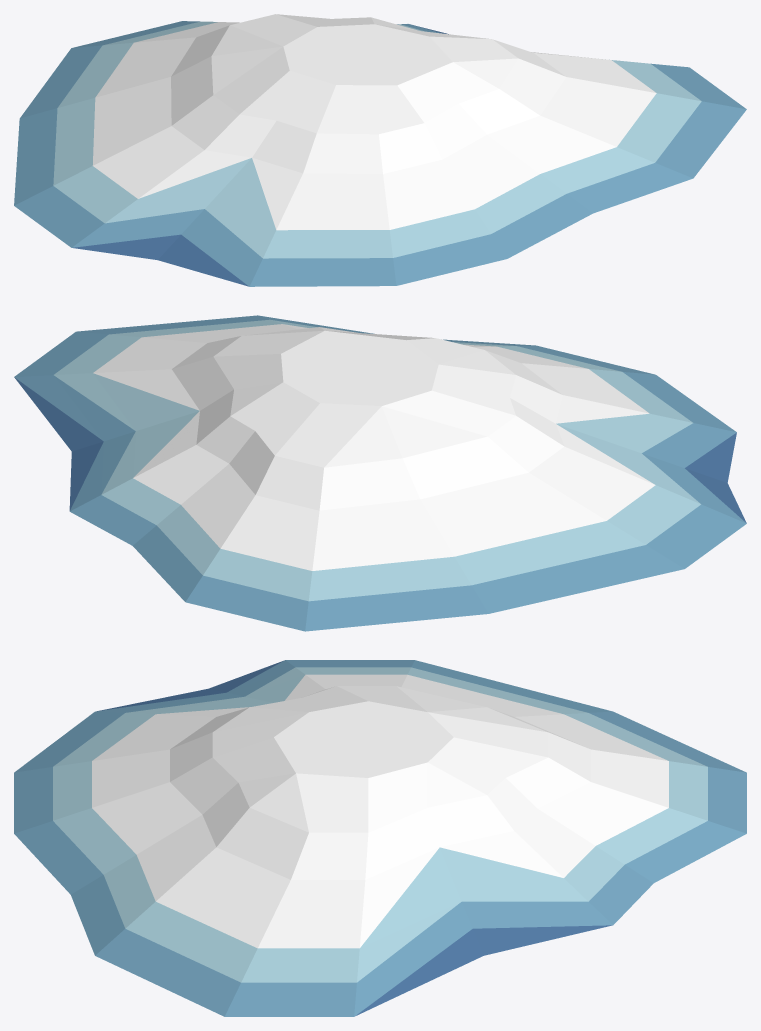
Rendered from terrainBeachLarge1.fbx.
The picture shows the model from 3 angles, top to bottom: view 1: azimuth 30°, elevation 25°; view 2: azimuth 150°, elevation 25°; view 3: azimuth 270°, elevation 25°; orthographic projection. The views are drawn at different scales.
Parts seen in each view (by area): view 1: plane; view 2: plane; view 3: plane.
Boxes of the visible parts, x1,y1,x2,y2 form: plane: [14, 14, 746, 286]; plane: [14, 315, 746, 631]; plane: [14, 660, 746, 1016].
Bounding box in the file's own units: 2844 × 369 × 2469.
Materials: 1 (1 with a texture image).
